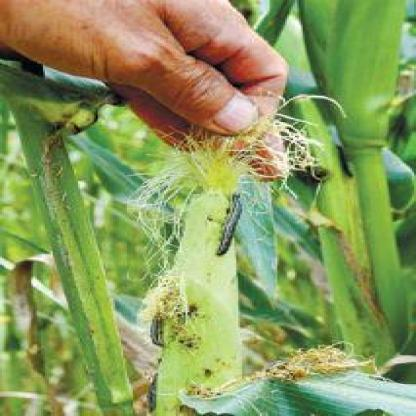armyworm: (213, 181, 254, 273), (147, 306, 174, 354)
